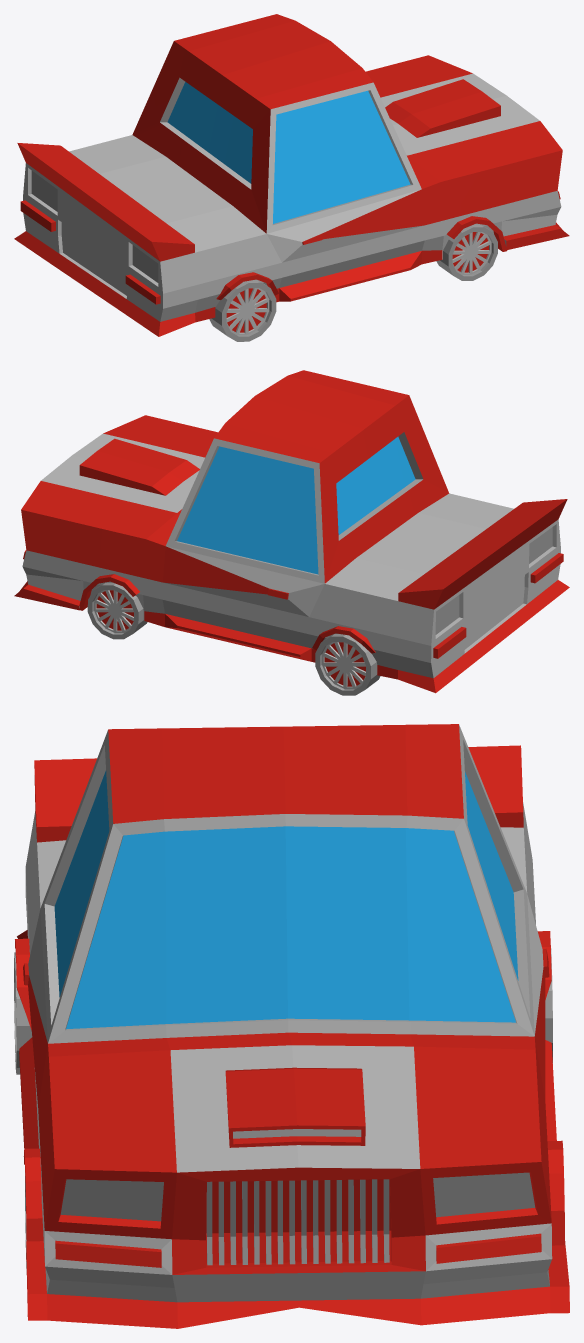
The model's file is car2_2.obj.
The picture shows the model from 3 angles, top to bottom: view 1: azimuth 30°, elevation 25°; view 2: azimuth 150°, elevation 25°; view 3: azimuth 270°, elevation 25°; orthographic projection. The views are drawn at different scales.
Visible parts, largest first — view 1: body_ID56; view 2: body_ID56; view 3: body_ID56.
Part boxes in pixels (box(x1,y1,x2,y2)): body_ID56: box(14, 14, 569, 341); body_ID56: box(14, 370, 569, 695); body_ID56: box(14, 724, 569, 1328).
Bounding box in the file's own units: 0.3331 × 0.1553 × 0.1976.
2 materials, 1 textured.
